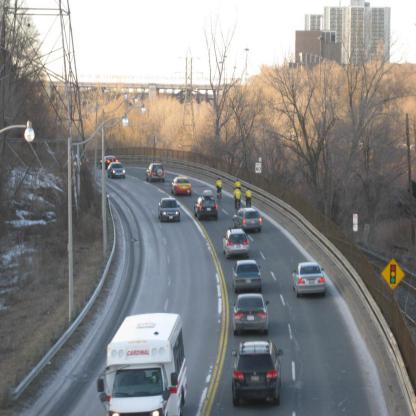Car: (232, 341, 284, 408), (232, 294, 270, 335), (291, 262, 326, 299), (232, 260, 262, 292), (195, 189, 218, 222), (233, 206, 261, 233), (223, 228, 248, 258), (158, 198, 181, 222), (171, 176, 192, 198), (146, 164, 165, 182), (106, 163, 124, 181), (100, 157, 120, 168), (71, 154, 89, 166)
